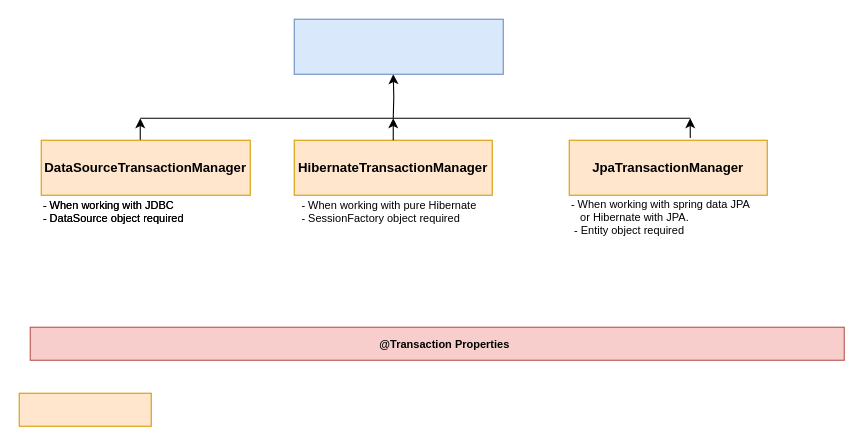
This 864x446 diagram has some shape labels left out. Here are the shapes that lost their labels. From the top down, the box of each, then its label:
(293, 18, 503, 74): PlatformTransactionManaget<I>
(18, 392, 151, 426): Propogation
